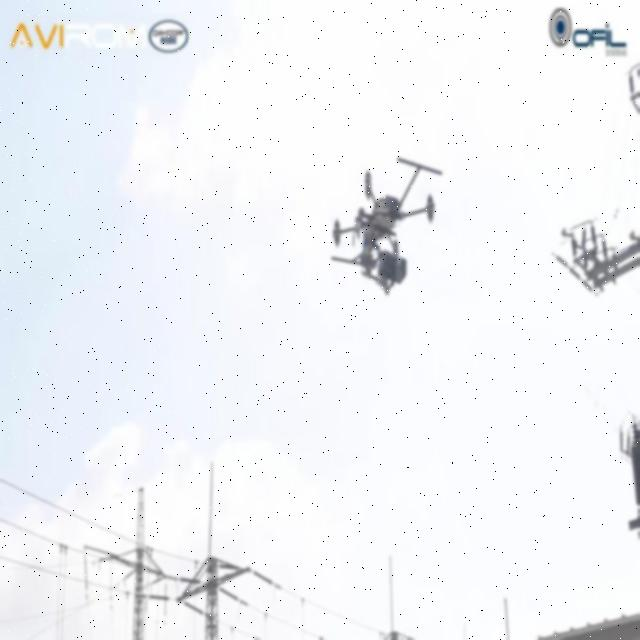UAV: (332, 158, 442, 294)
